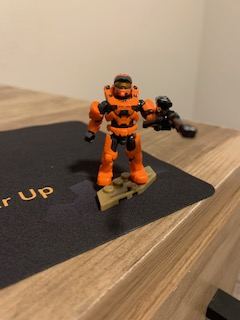spartan: (82, 72, 159, 188)
